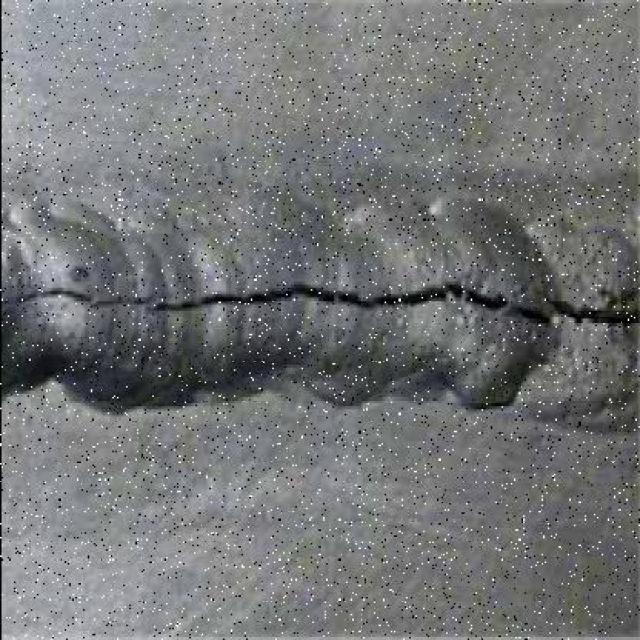Defect: (6, 268, 640, 348)
